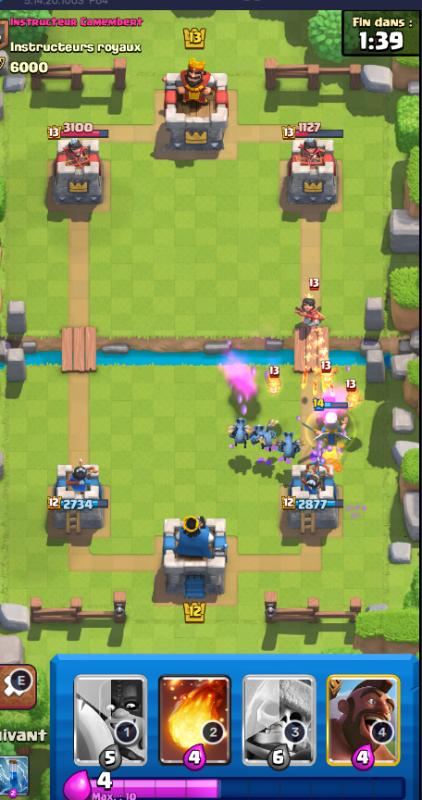gargouille: (227, 412, 253, 450), (251, 418, 277, 450), (282, 432, 305, 464), (271, 364, 290, 401), (267, 401, 272, 401)
